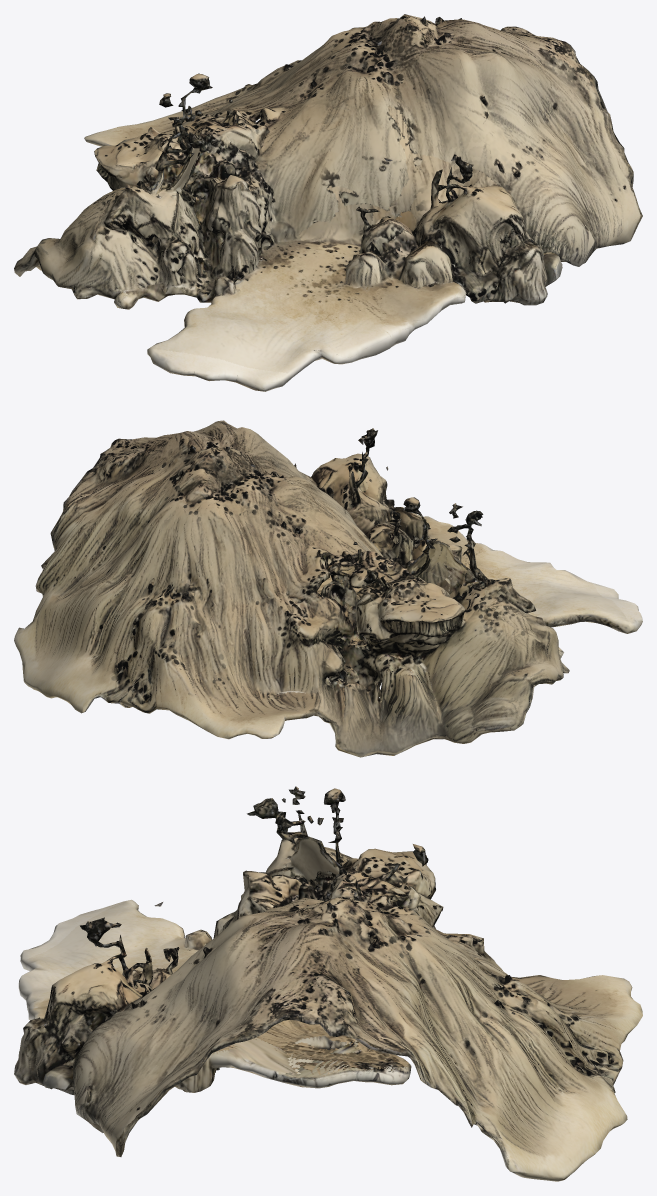
File: ScrollPineHill.fbx
3 views of the same model, one above another, from view 1: azimuth 30°, elevation 25°; view 2: azimuth 150°, elevation 25°; view 3: azimuth 270°, elevation 25° (orthographic). The views are drawn at different scales.
Visible parts, largest first — view 1: ScrollPineHill; view 2: ScrollPineHill; view 3: ScrollPineHill.
Boxes of the visible parts, x1,y1,x2,y2 form: ScrollPineHill: (14,14,642,391); ScrollPineHill: (14,420,642,757); ScrollPineHill: (14,786,642,1181).
Bounding box in the file's own units: 200 × 83.05 × 195.
1 material, 1 textured.
